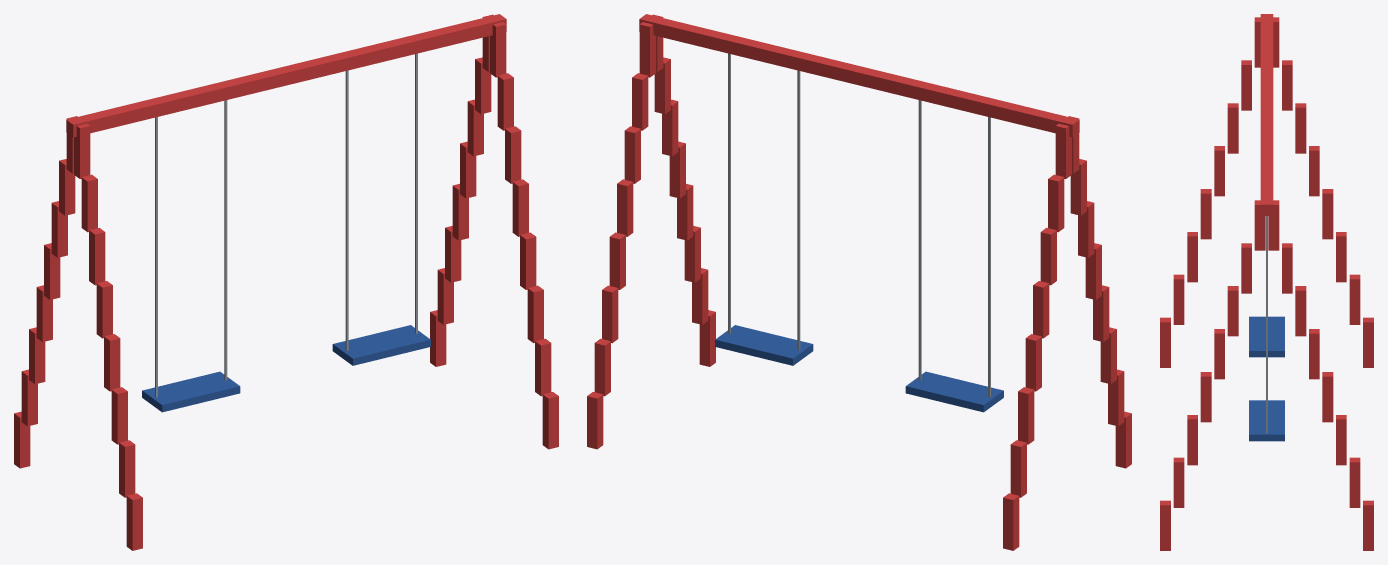
File: swing_set.glb
3 views of the same model, side by side, from view 1: azimuth 30°, elevation 25°; view 2: azimuth 150°, elevation 25°; view 3: azimuth 270°, elevation 25° (orthographic). The views are drawn at different scales.
Parts seen in each view (by area): view 1: swing_set; view 2: swing_set; view 3: swing_set.
Boxes of the visible parts, box(x1,y1,x2,y2) form: swing_set: box(14, 14, 558, 550); swing_set: box(587, 14, 1131, 550); swing_set: box(1160, 14, 1373, 550).
Size of the model in its own units: 2.5 by 2.13 by 1.18.
